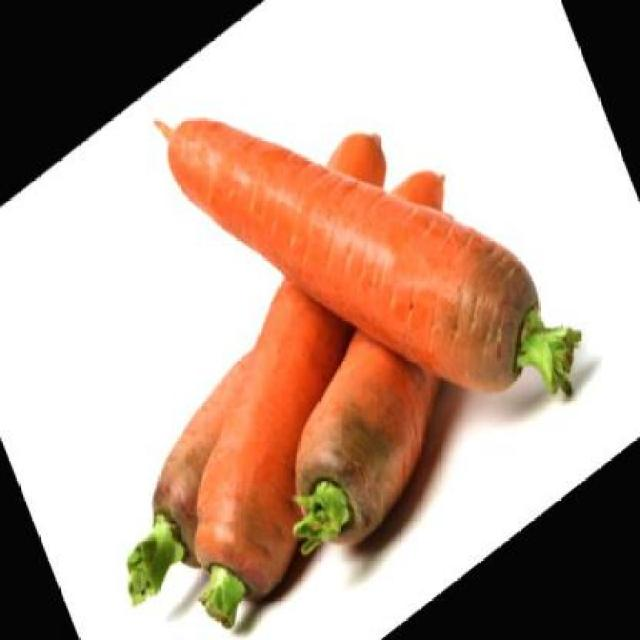carrot: (148, 0, 559, 538), (102, 111, 490, 628), (258, 280, 479, 569), (123, 345, 309, 586)
